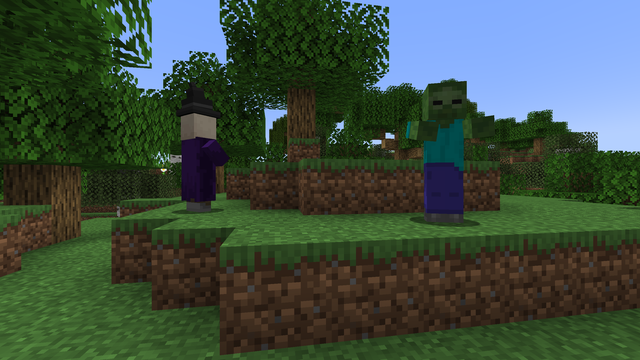sorcieres: (176, 108, 216, 212)
zombies: (413, 83, 474, 224)
